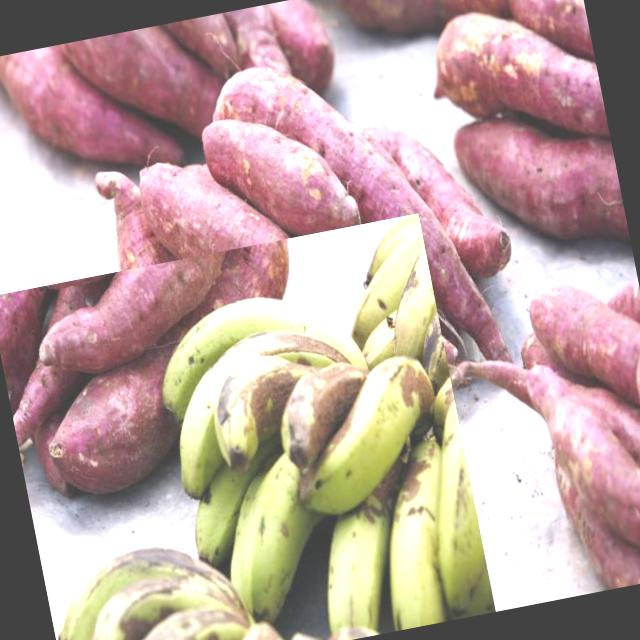Banana: (152, 264, 495, 640), (41, 524, 273, 640)
